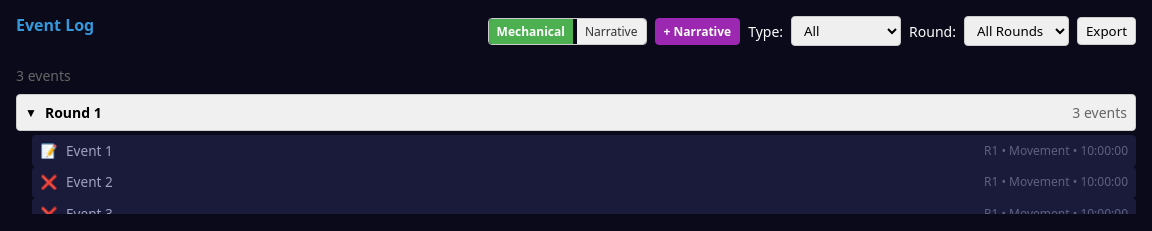
Test: EventLog › event count display › should update count when filtering
Select "Error" in the dropdown labelled "Type:" at (846, 31), box [791,16,901,46]
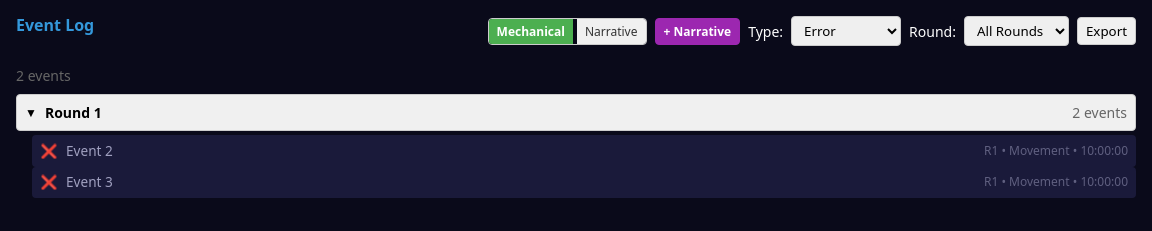
Check: the 1st text "2 events" is shown, box [16,66,71,85]
